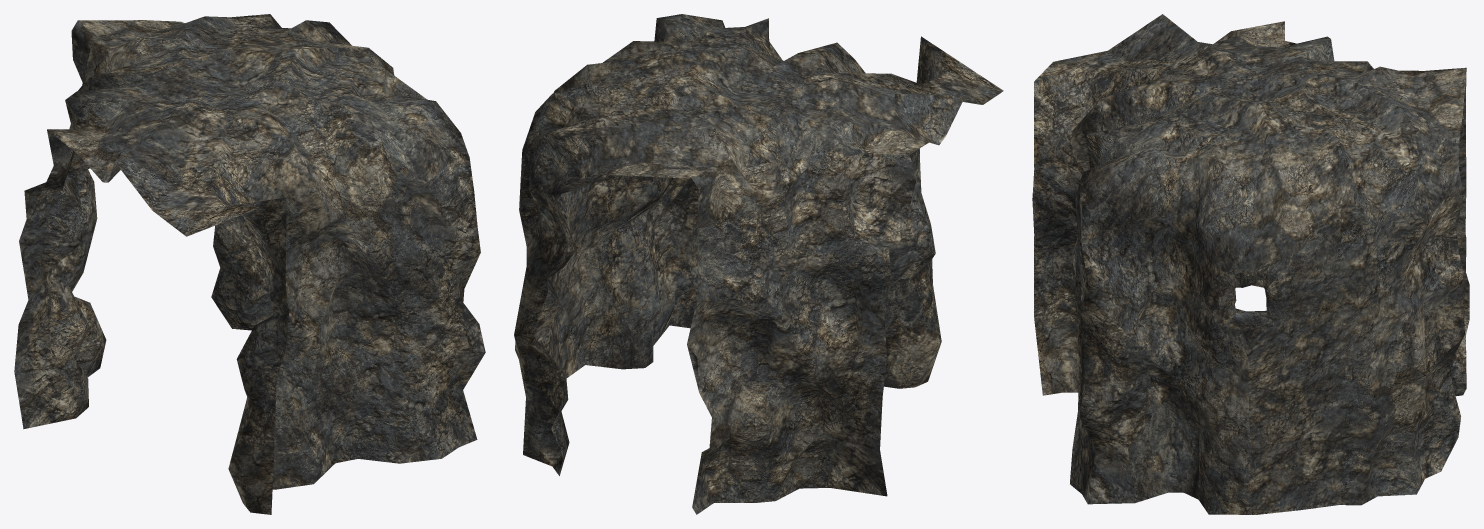
File: Module14A_LOD1.fbx
The picture shows the model from 3 angles, left to right: view 1: azimuth 30°, elevation 25°; view 2: azimuth 150°, elevation 25°; view 3: azimuth 270°, elevation 25°; orthographic projection. The views are drawn at different scales.
Visible parts, largest first — view 1: cave_el14A_1900_Group43685; view 2: cave_el14A_1900_Group43685; view 3: cave_el14A_1900_Group43685.
Boxes of the visible parts, x1=… form: cave_el14A_1900_Group43685: x1=14, y1=14, x2=485, y2=514; cave_el14A_1900_Group43685: x1=514, y1=14, x2=1003, y2=514; cave_el14A_1900_Group43685: x1=1032, y1=14, x2=1469, y2=514.
Size of the model in its own units: 56.72 by 53.27 by 59.
